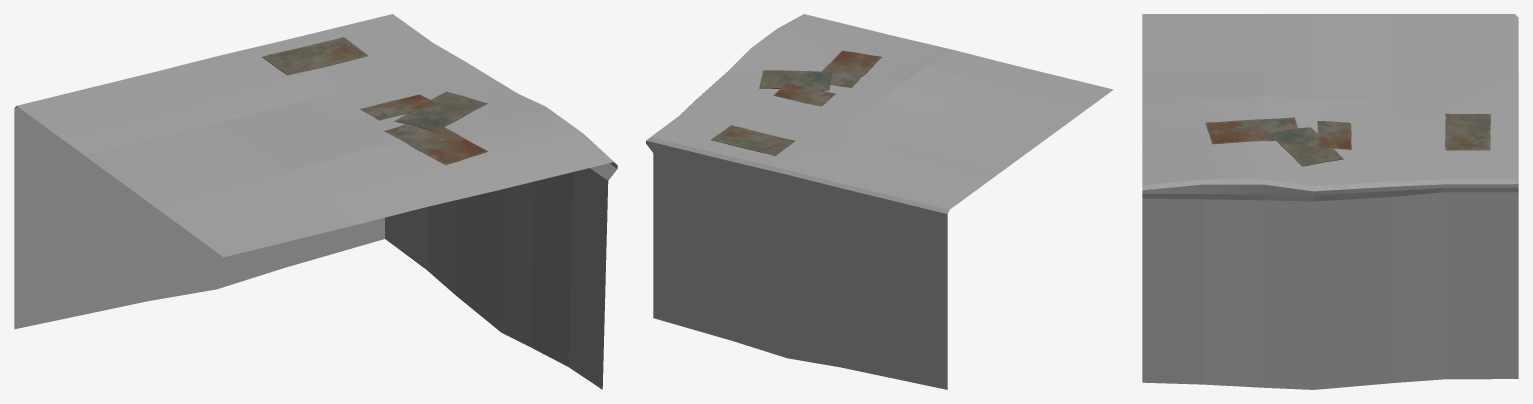
The model's file is FT_WarehouseGround.fbx.
3 views of the same model, side by side, from view 1: azimuth 30°, elevation 25°; view 2: azimuth 150°, elevation 25°; view 3: azimuth 270°, elevation 25° (orthographic). The views are drawn at different scales.
Parts seen in each view (by area): view 1: WarehouseGround; view 2: WarehouseGround; view 3: WarehouseGround.
Boxes of the visible parts, x1,y1,x2,y2 form: WarehouseGround: (14, 14, 617, 389); WarehouseGround: (646, 14, 1113, 389); WarehouseGround: (1142, 14, 1518, 389).
Size of the model in its own units: 22.5 by 13.27 by 20.7.
